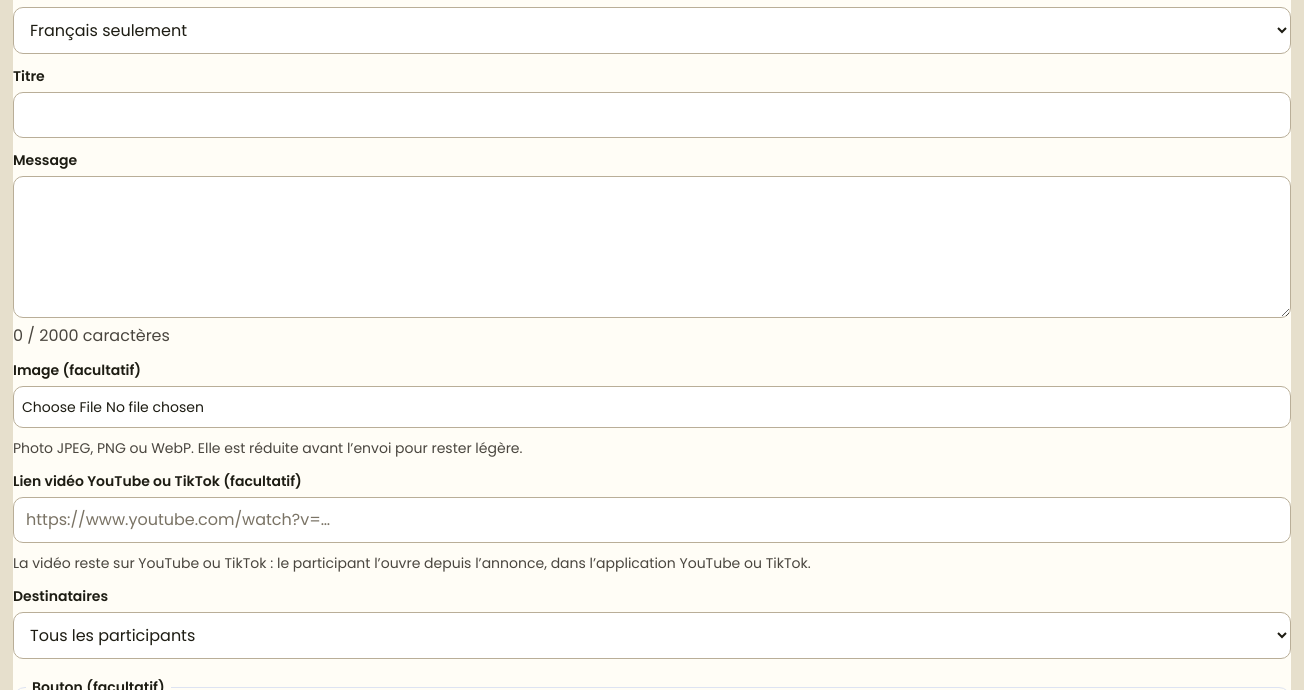
Scenario: annonces dans l’administration › une annonce ciblée exige un parcours
Type "T" into the field labelled "Titre" at (652, 115), box top-left (13, 92), bottom-right (1291, 138)
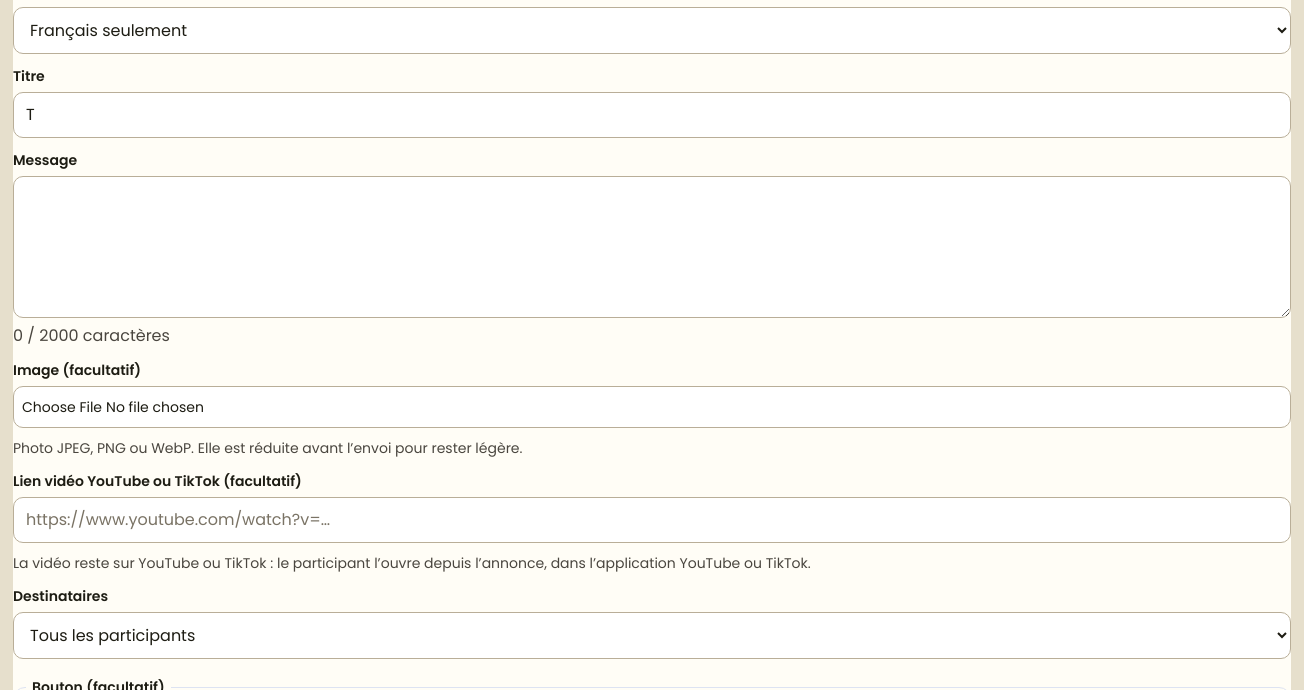
Type "X" into the text box labelled "Message" at (652, 247), box top-left (13, 176), bottom-right (1291, 318)
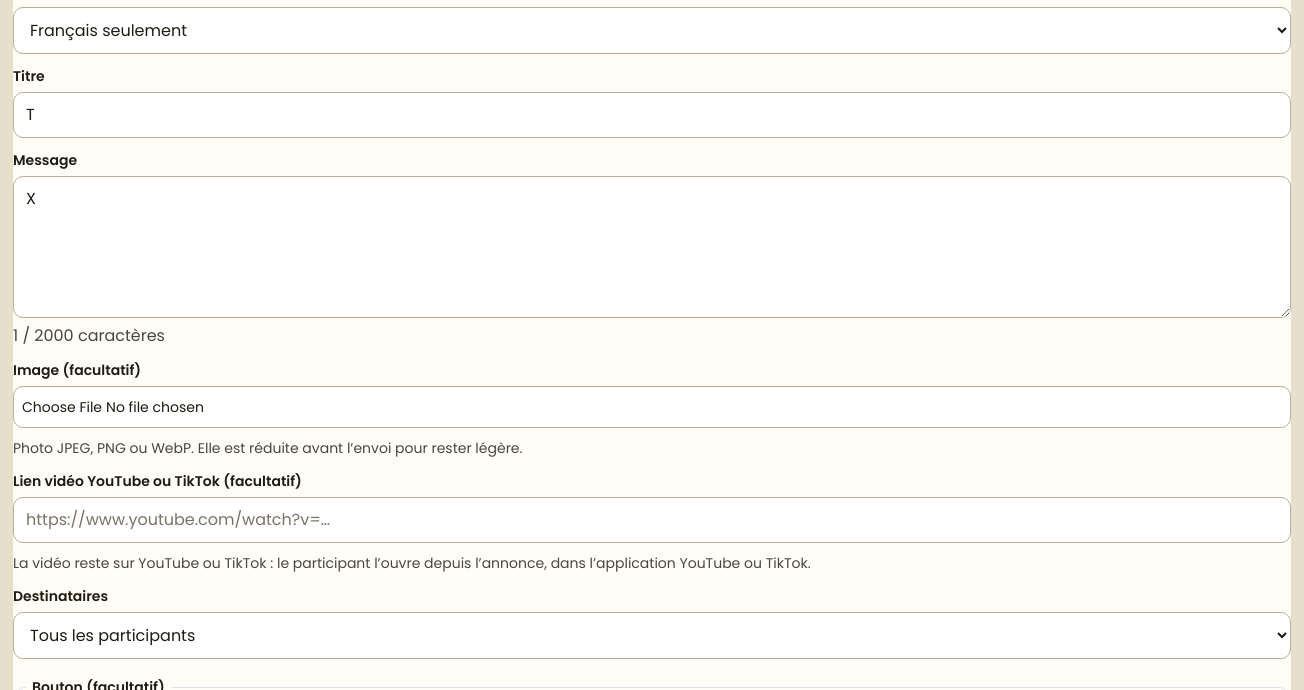
Select "Les inscrits d’un parcours" in the dropdown labelled "Destinataires" at (652, 636), box top-left (13, 612), bottom-right (1291, 659)
(page scrolled)
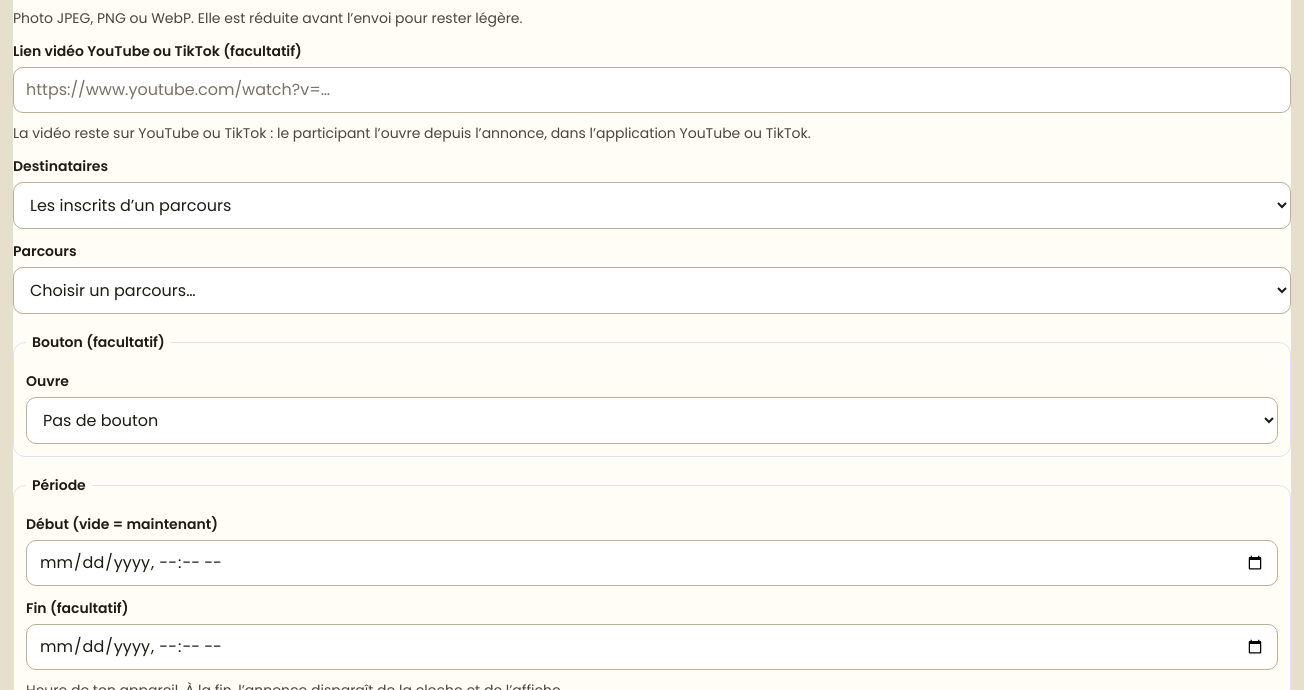
Select "Formation 30 jours — P30" in the dropdown labelled "Parcours" at (652, 290), box top-left (13, 267), bottom-right (1291, 314)
(page scrolled)
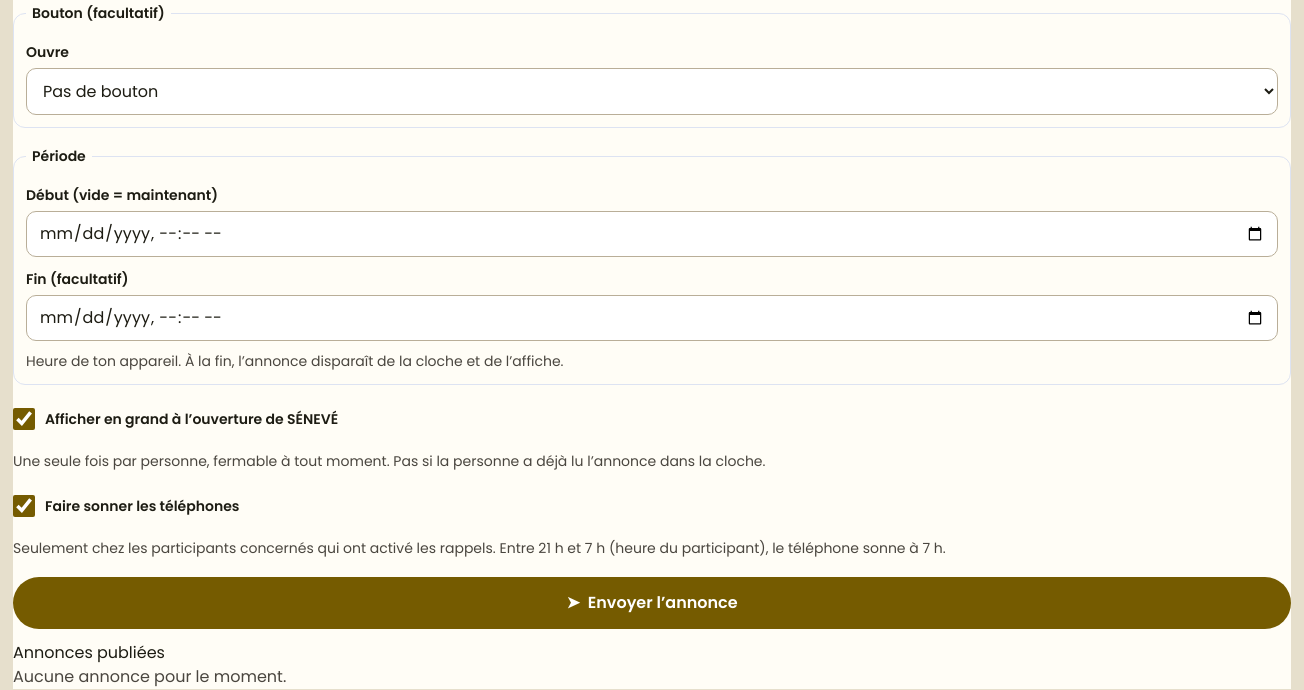
Check: the button "➤ Envoyer l’annonce" is enabled, box top-left (13, 577), bottom-right (1291, 629)
